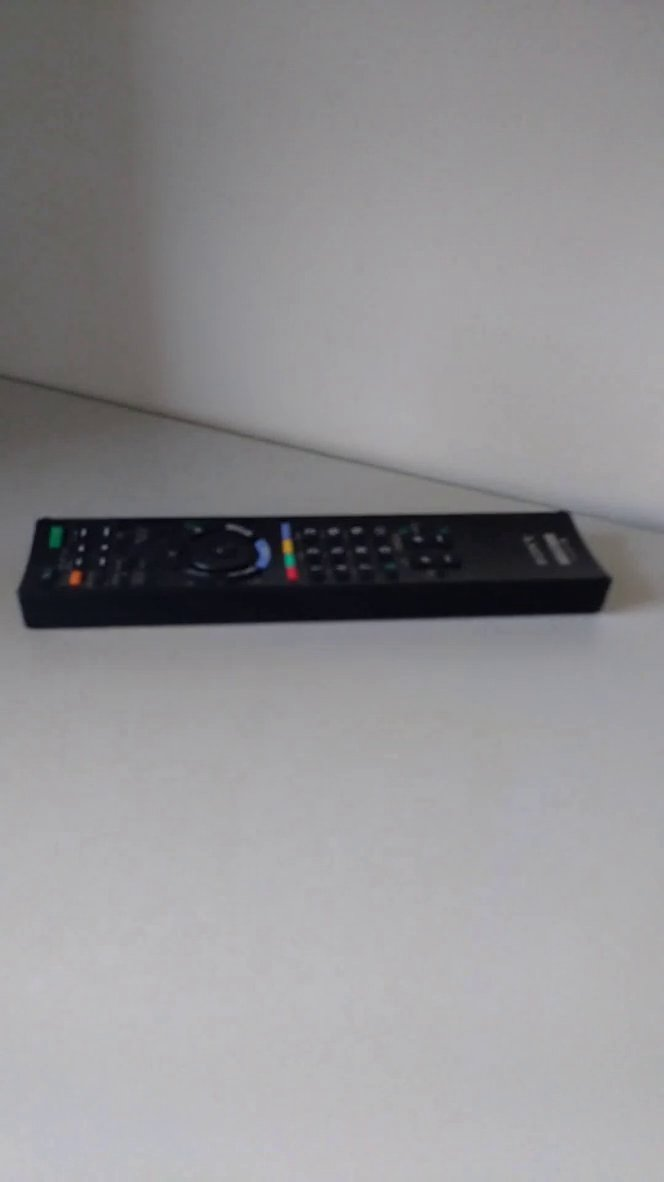remote: (8, 467, 636, 702)
